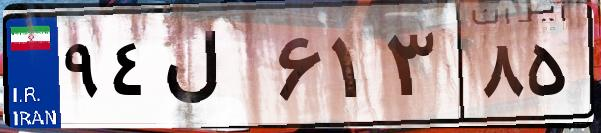1: (330, 28, 385, 110)
3: (385, 28, 445, 110)
4: (110, 28, 158, 98)
5: (525, 38, 570, 115)
6: (270, 28, 330, 110)
8: (475, 38, 525, 113)
9: (57, 26, 110, 100)
ل: (158, 20, 270, 120)
